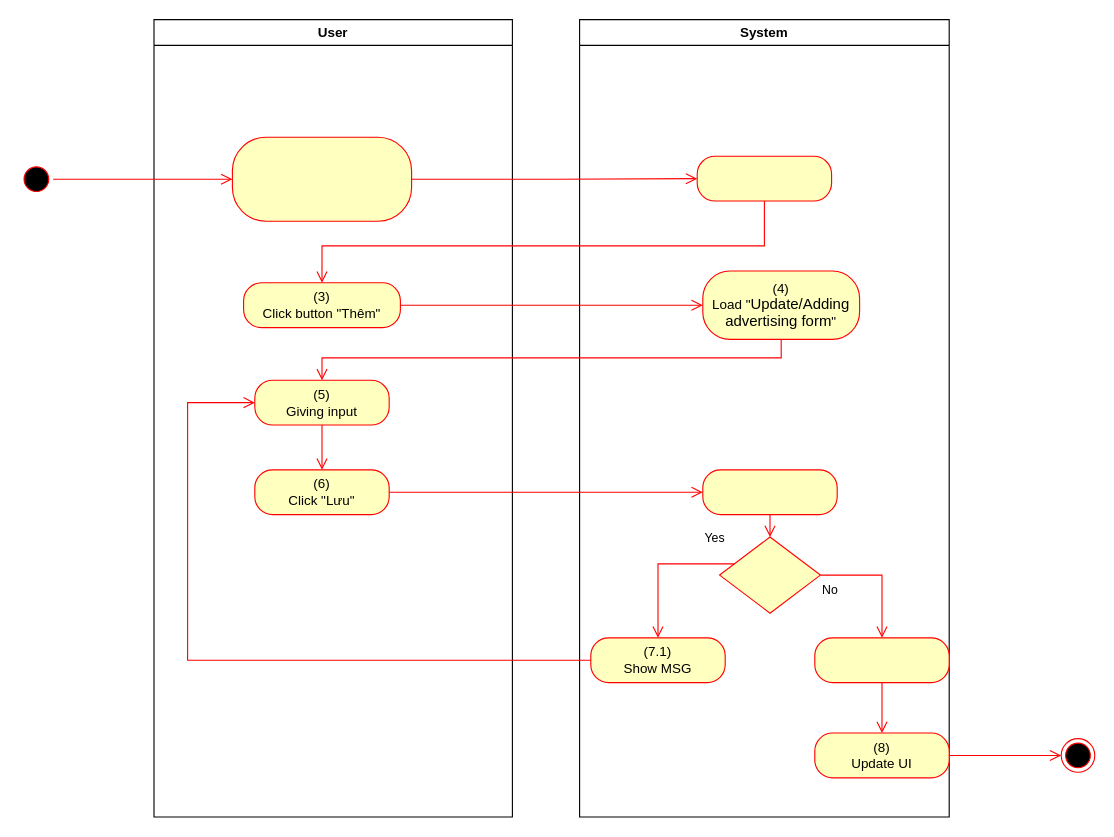
Image size: 1114x837. Some labels were removed from this diagram. The shapes that lost their labels are listed below. From the top down, each one's centre as x and y in pixels, then its label:
point 321,178: (1) On "left menu" click " Advertising "
point 764,178: (2) Load " List Advertising View "
point 769,492: (7) Validate
point 881,660: (7.2) Push new Advertising unit to DB
